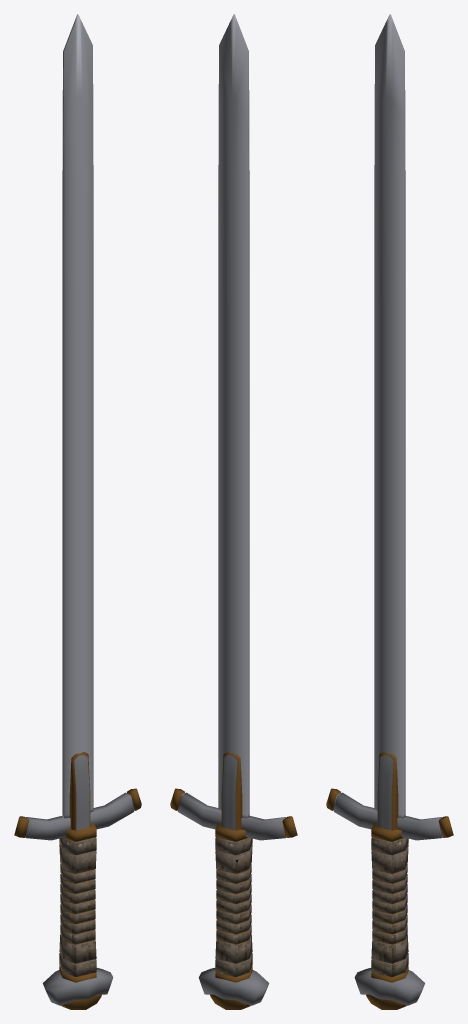
File: Assets Weopons Sword 2.fbx
3 views of the same model, side by side, from view 1: azimuth 30°, elevation 25°; view 2: azimuth 150°, elevation 25°; view 3: azimuth 330°, elevation 25° (orthographic).
Visible parts, largest first — view 1: WeaponsSword 2; view 2: WeaponsSword 2; view 3: WeaponsSword 2.
Part boxes in pixels (x1,y1,x2,y2): WeaponsSword 2: (14,14,141,1009); WeaponsSword 2: (170,14,297,1009); WeaponsSword 2: (326,14,453,1009).
Size of the model in its own units: 24.25 by 180 by 7.09.
